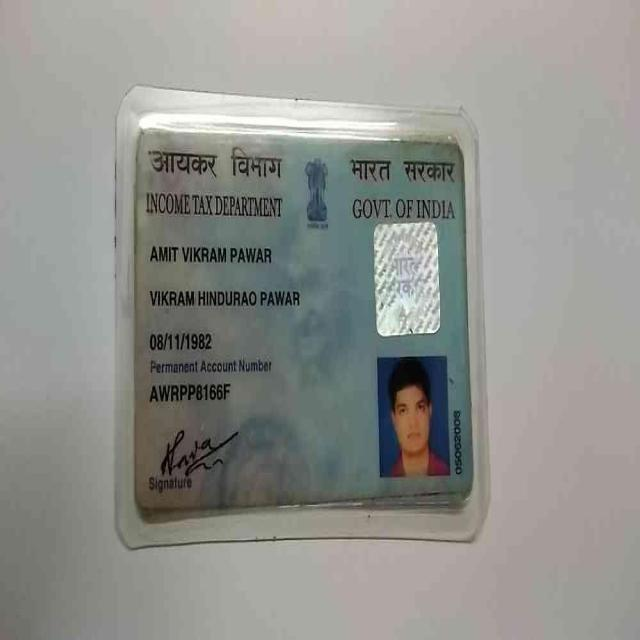pan_card: (142, 131, 471, 504)
